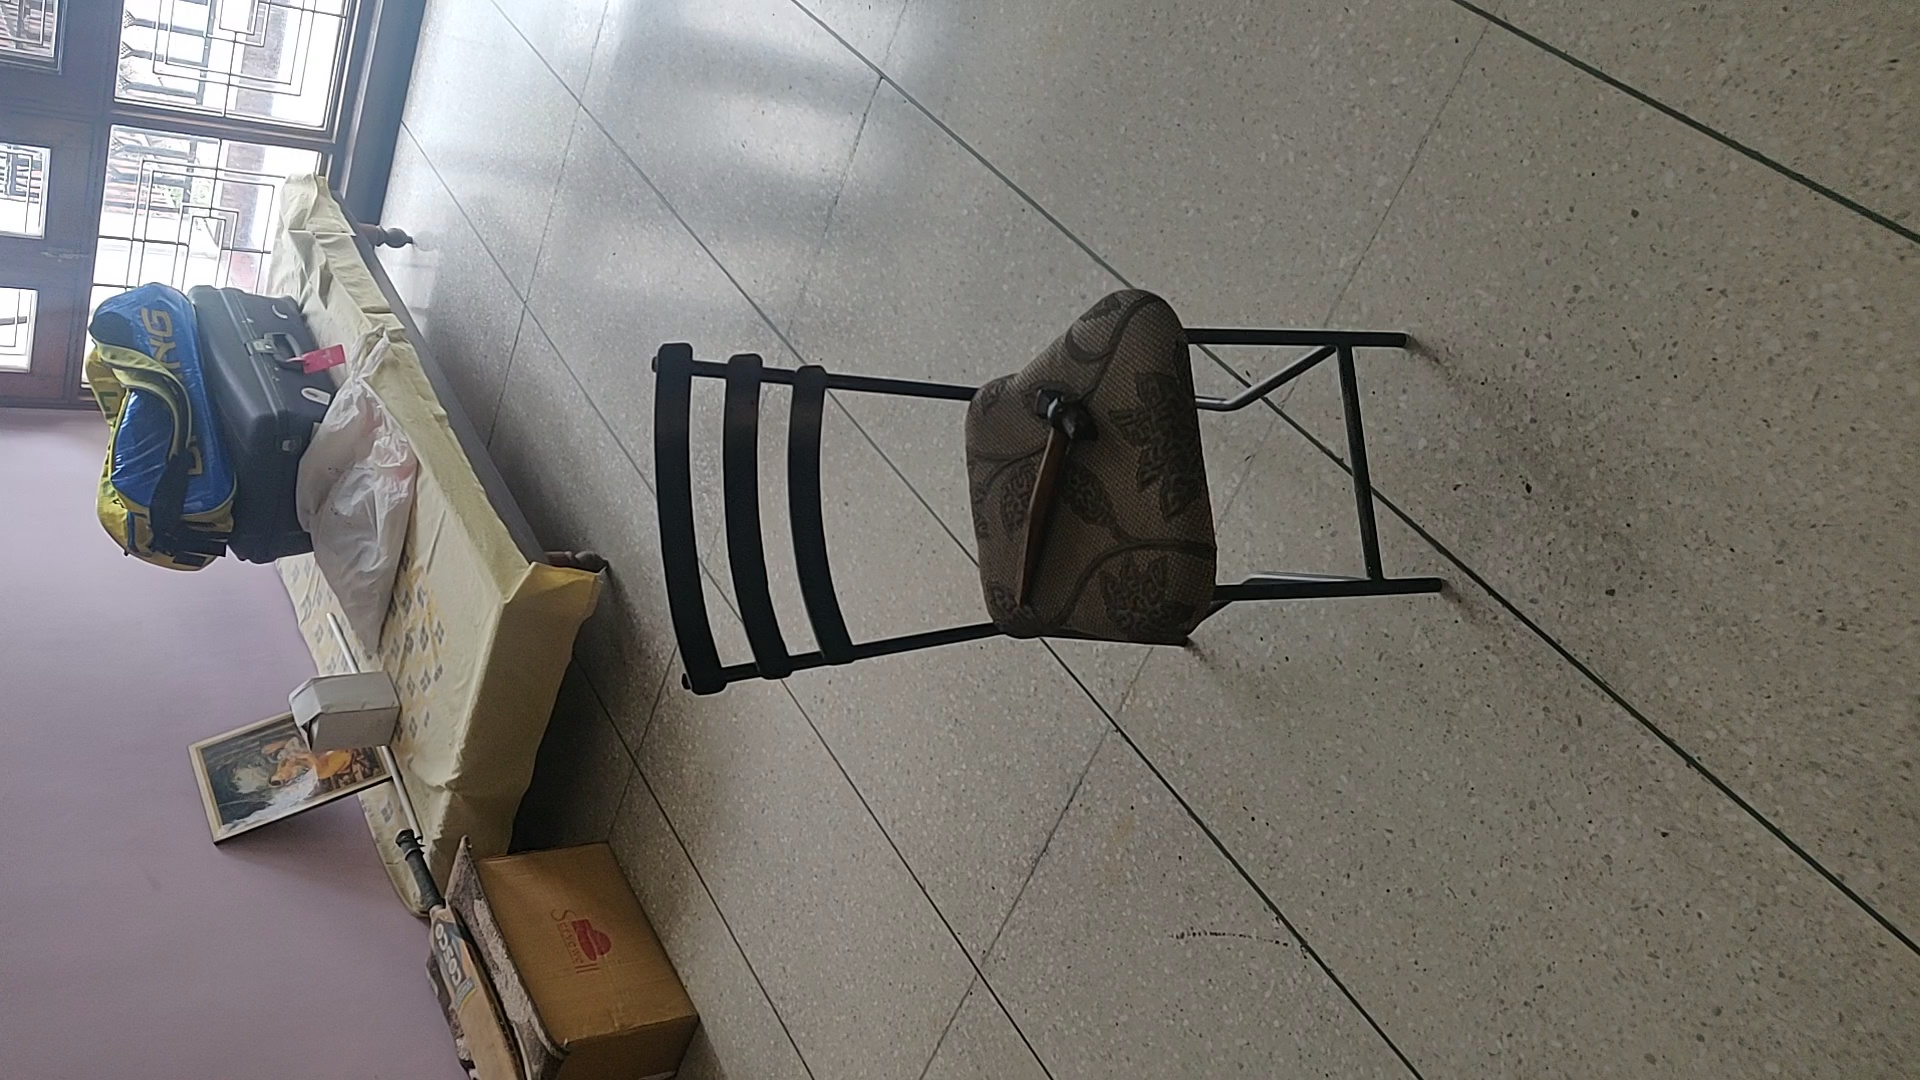hammer: (1007, 386, 1100, 607)
